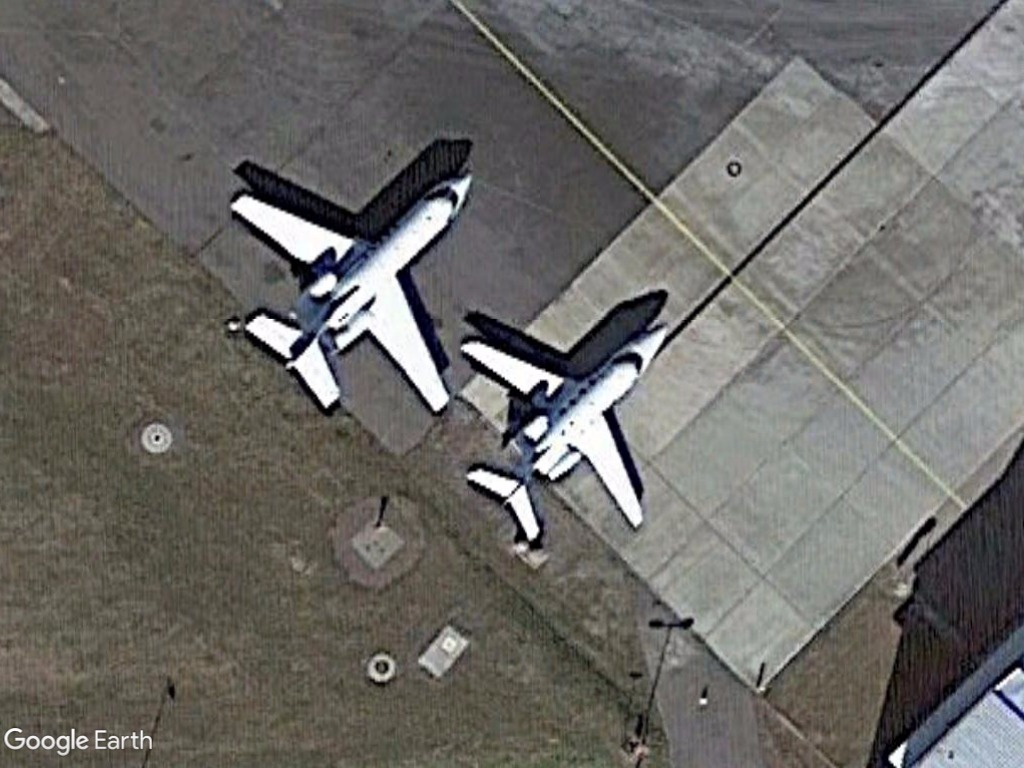chartered: (226, 151, 477, 431), (453, 294, 672, 552)
